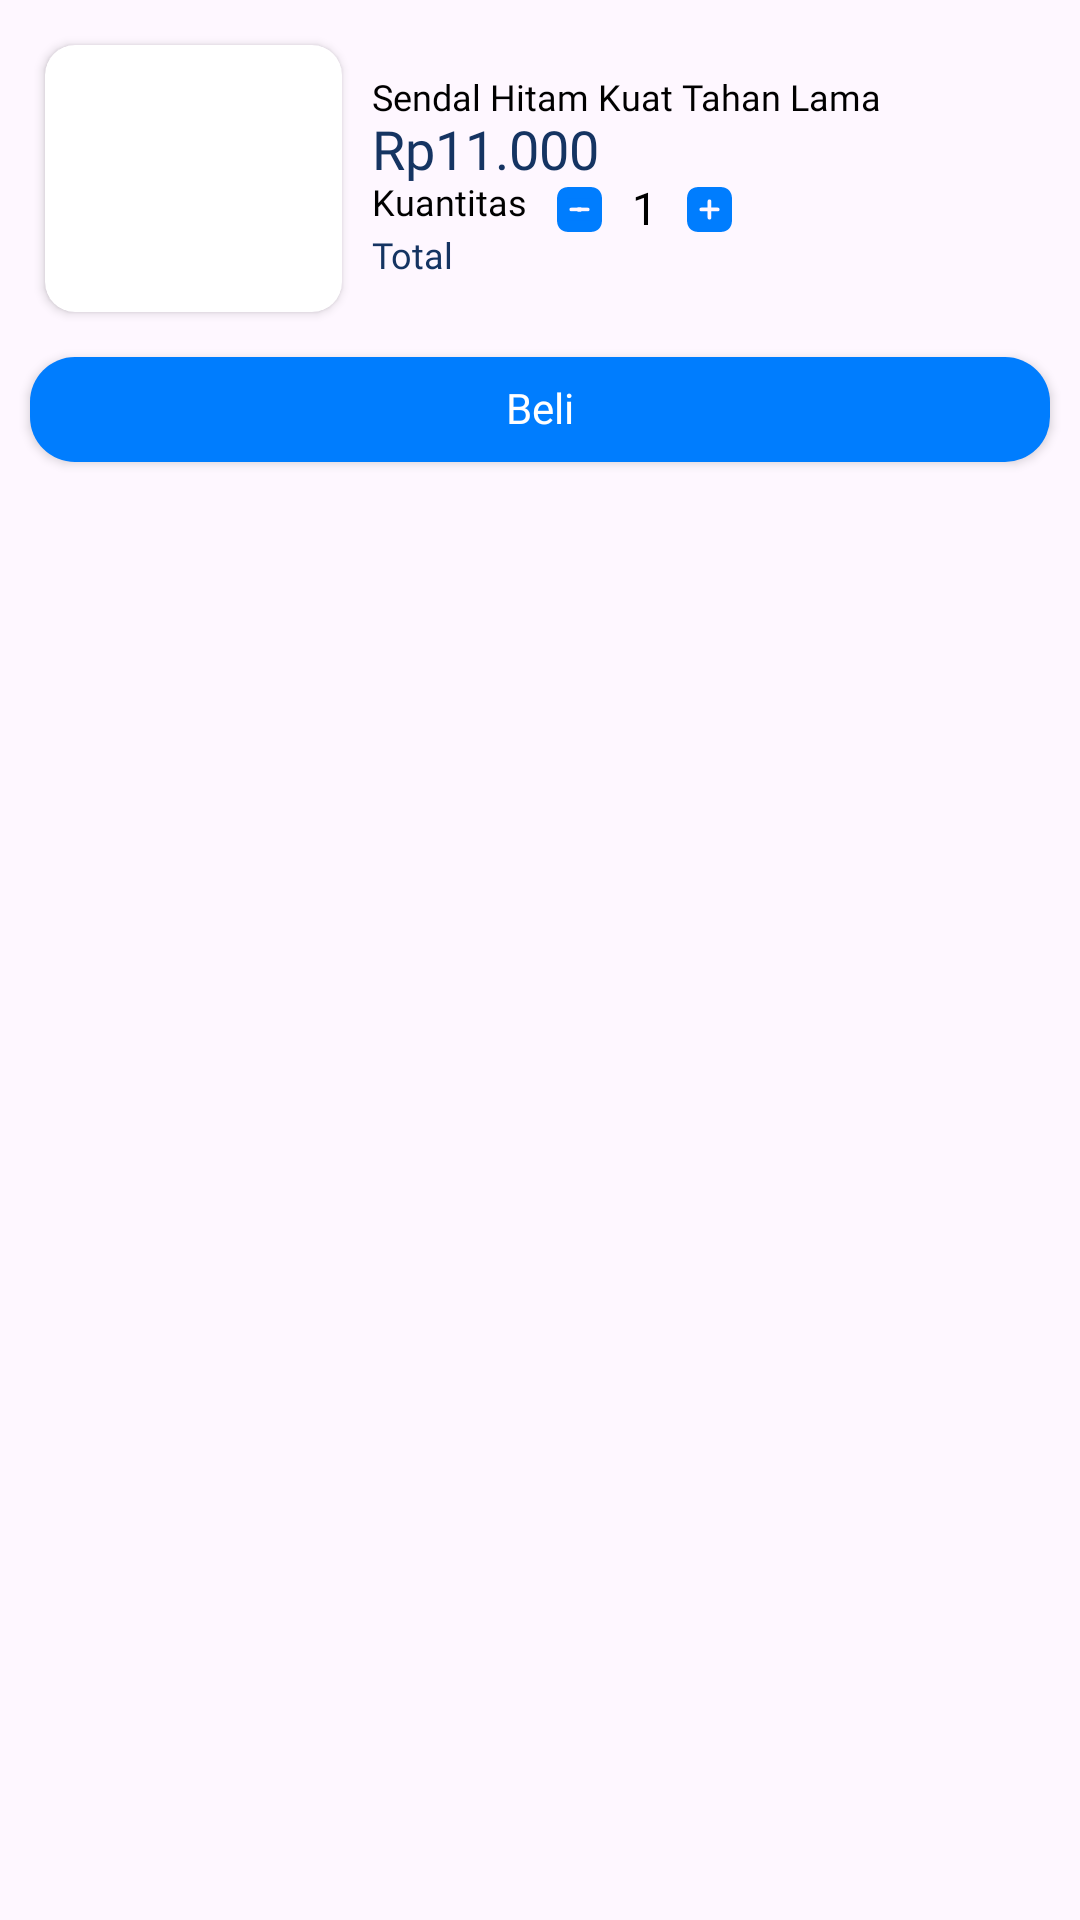

Named icons in this screenshot (1080×1920) and their bounding boxes, (x1, y1, x2, y2):
plus: (687, 187, 732, 232)
